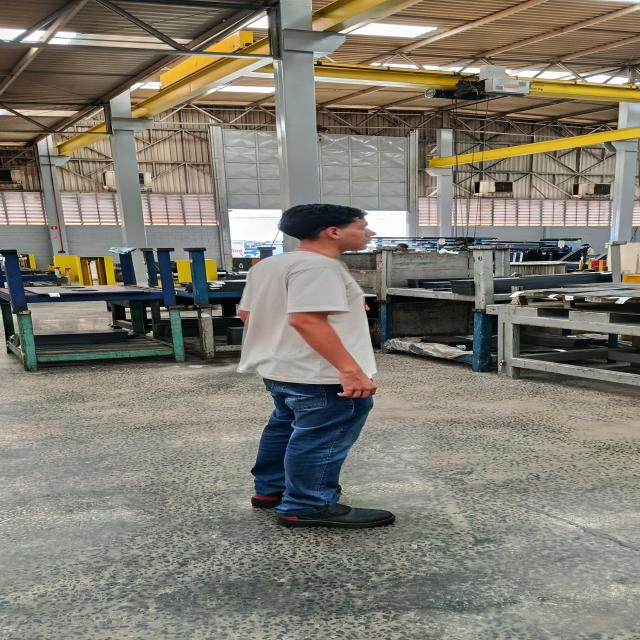sem_oculos: (316, 222, 386, 234)
